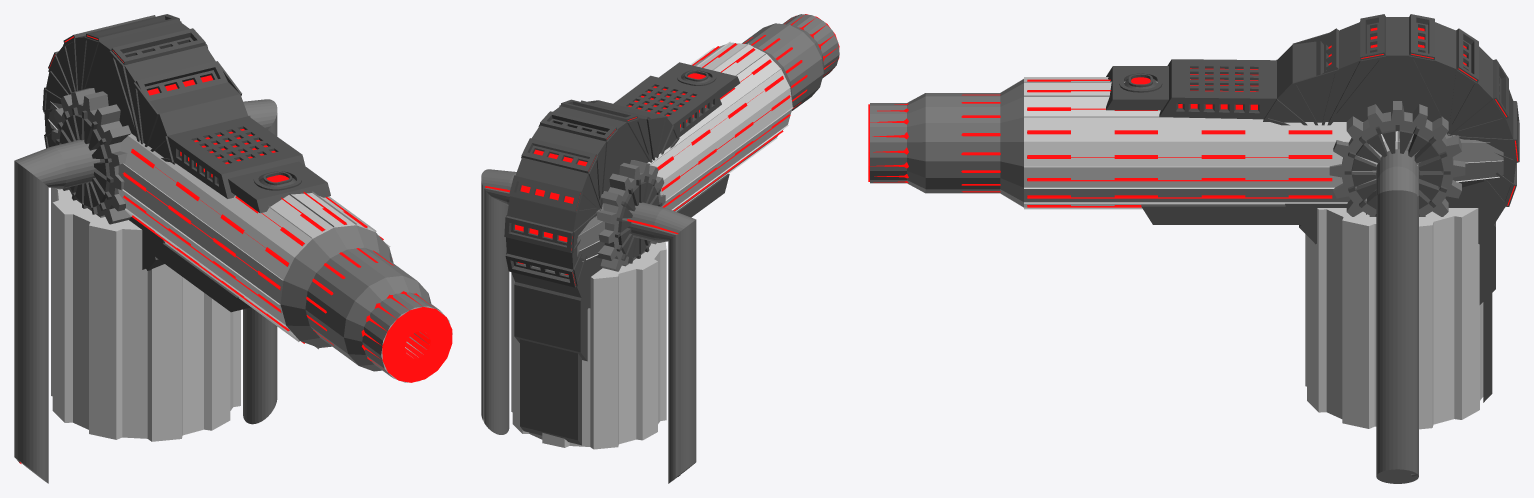
File: laser_cannon.glb
The picture shows the model from 3 angles, left to right: view 1: azimuth 30°, elevation 25°; view 2: azimuth 150°, elevation 25°; view 3: azimuth 270°, elevation 25°; orthographic projection. The views are drawn at different scales.
Visible parts, largest first — view 1: Gear.004, Gear.003, Gear, Cylindre.001, Gear.009, Gear.001, Gear.005, Gear.011, Gear.007; view 2: Gear, Gear.004, Cylindre.001, Gear.003, Gear.001, Gear.005, Gear.007, Gear.011, Gear.008, Gear.009; view 3: Gear.003, Gear, Gear.004, Cylindre.001, Gear.002, Gear.005, Gear.011, Gear.009, Gear.007.
Boxes of the visible parts, x1,y1,x2,y2 form: Gear.004: [51, 188, 240, 441]; Gear.003: [48, 101, 452, 382]; Gear: [42, 14, 330, 312]; Cylindre.001: [14, 99, 277, 483]; Gear.009: [306, 248, 452, 382]; Gear.001: [51, 88, 131, 224]; Gear.005: [122, 149, 383, 343]; Gear.011: [55, 107, 113, 214]; Gear.007: [123, 37, 217, 95]; Gear: [504, 62, 739, 445]; Gear.004: [511, 242, 666, 449]; Cylindre.001: [481, 169, 696, 483]; Gear.003: [524, 14, 839, 274]; Gear.001: [596, 160, 665, 271]; Gear.005: [657, 43, 790, 210]; Gear.007: [511, 118, 606, 279]; Gear.011: [615, 176, 662, 263]; Gear.008: [515, 149, 587, 274]; Gear.009: [743, 14, 839, 108]; Gear.003: [870, 77, 1503, 209]; Gear: [1106, 14, 1519, 402]; Gear.004: [1305, 208, 1483, 429]; Cylindre.001: [1376, 149, 1418, 483]; Gear.002: [1329, 101, 1465, 216]; Gear.005: [1027, 79, 1332, 207]; Gear.011: [1344, 123, 1450, 216]; Gear.009: [868, 94, 1000, 192]; Gear.007: [1324, 22, 1501, 102].
Bounding box in the file's own units: 15.74 × 24.93 × 35.7.
